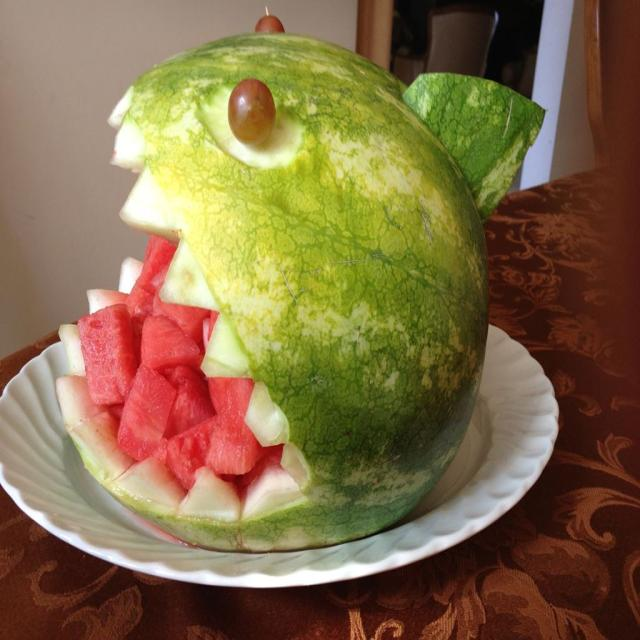watermelon: (55, 35, 489, 555)
